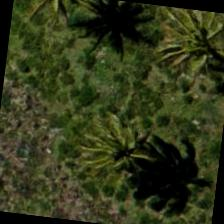Kelapa_Sawit: (67, 89, 167, 189), (150, 5, 223, 94)
